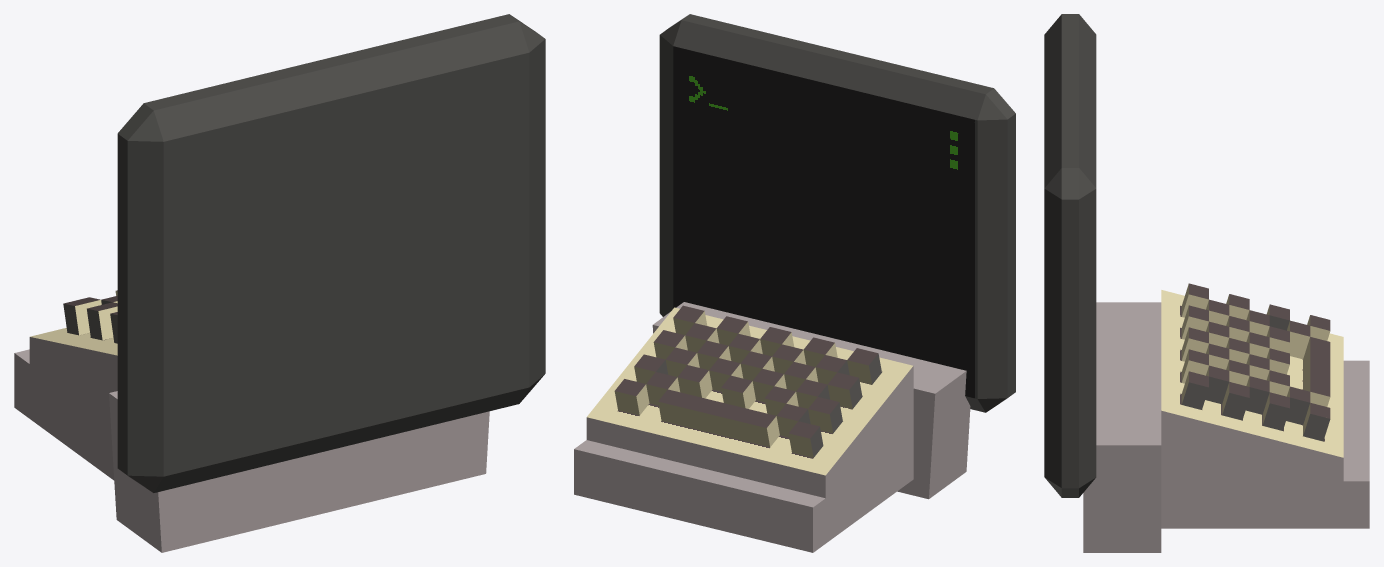
File: WallTerminal.gltf
3 views of the same model, side by side, from view 1: azimuth 30°, elevation 25°; view 2: azimuth 150°, elevation 25°; view 3: azimuth 270°, elevation 25° (orthographic). The views are drawn at different scales.
Parts seen in each view (by area): view 1: Terminal, Interface; view 2: Terminal, Interface; view 3: Interface, Terminal.
Part boxes in pixels (x1=…): Terminal: x1=117, y1=14, x2=545, y2=492; Interface: x1=14, y1=290, x2=489, y2=552; Terminal: x1=659, y1=14, x2=1015, y2=412; Interface: x1=574, y1=302, x2=970, y2=552; Interface: x1=1083, y1=283, x2=1369, y2=552; Terminal: x1=1044, y1=14, x2=1096, y2=497.
Size of the model in its own units: 1 by 1.04 by 0.7813.
Materials: 2 (2 with a texture image).
